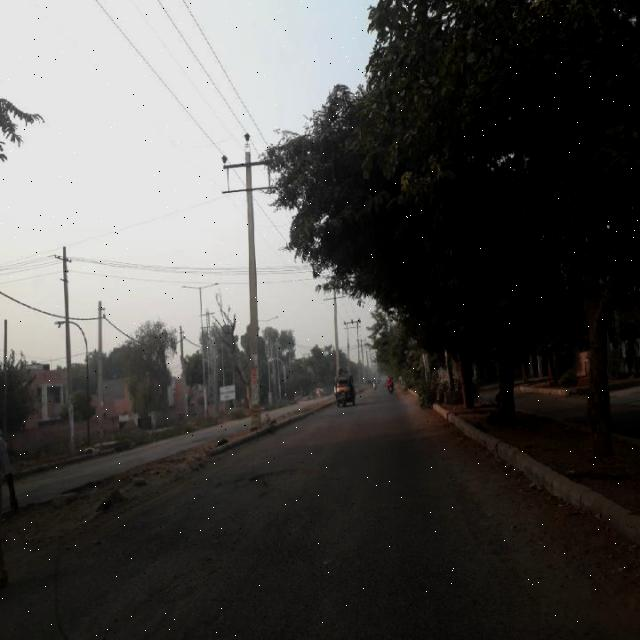D00: (236, 456, 318, 497)
